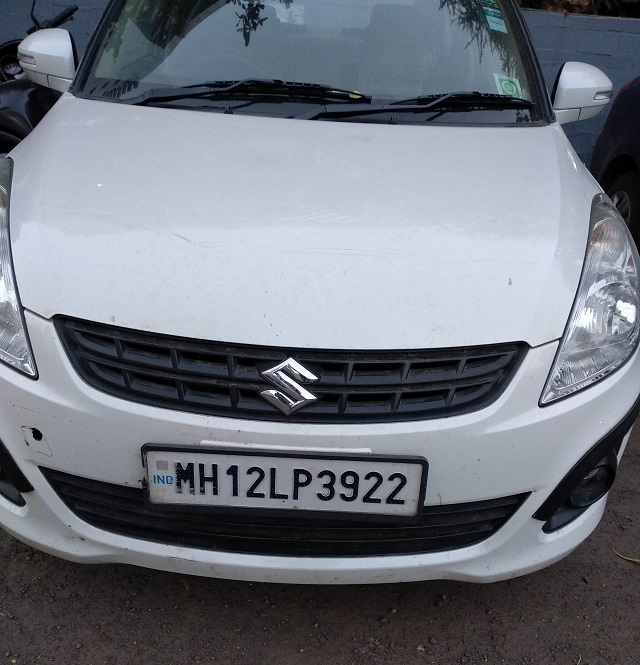licenseplate: (142, 446, 425, 523)
